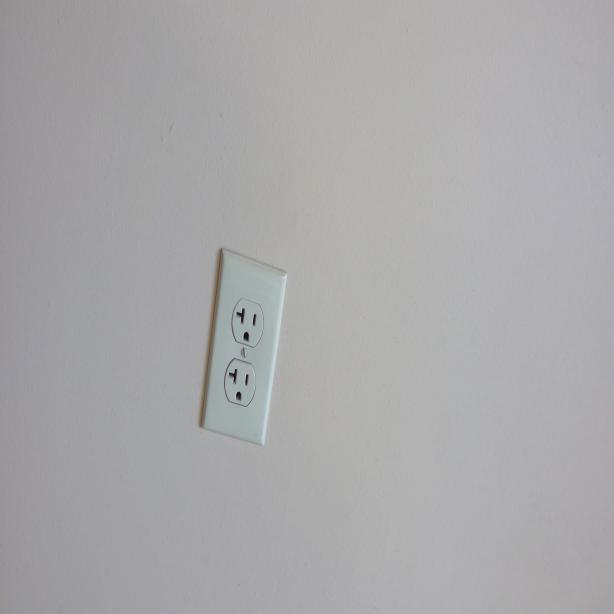typeb: (224, 359, 256, 407), (231, 294, 261, 344)
